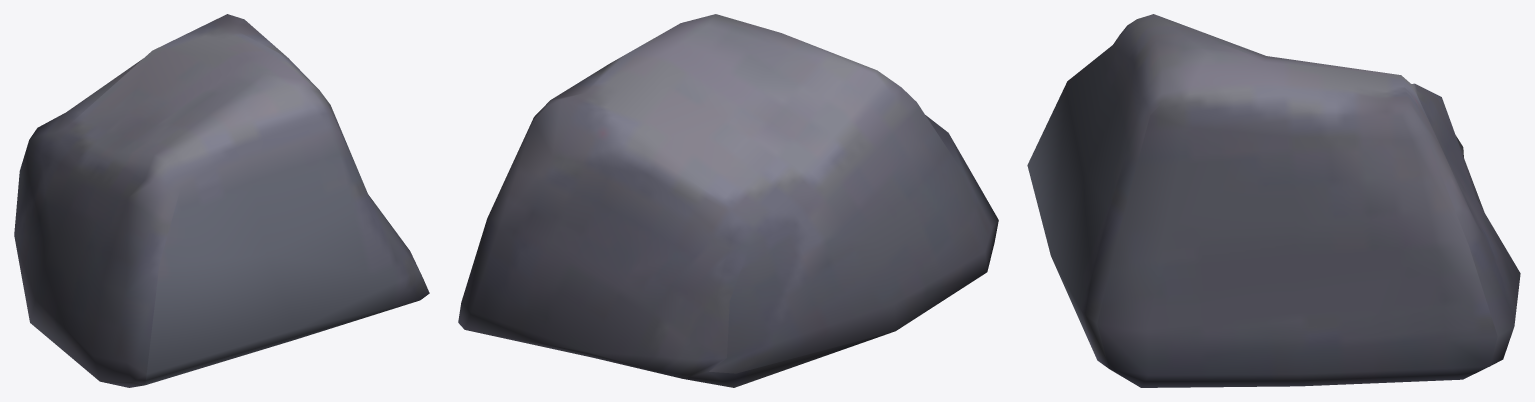
File: DeepForestRock06Textured.fbx
3 renders of one model, left to right at view 1: azimuth 30°, elevation 25°; view 2: azimuth 150°, elevation 25°; view 3: azimuth 270°, elevation 25°, orthographic. The views are drawn at different scales.
Visible parts, largest first — view 1: ForestRock06; view 2: ForestRock06; view 3: ForestRock06.
Part boxes in pixels (box(x1,y1,x2,y2)): ForestRock06: box(14, 14, 429, 387); ForestRock06: box(458, 14, 998, 387); ForestRock06: box(1027, 14, 1520, 387).
Size of the model in its own units: 1.64 by 1.04 by 1.76.
Materials: 1 (1 with a texture image).
